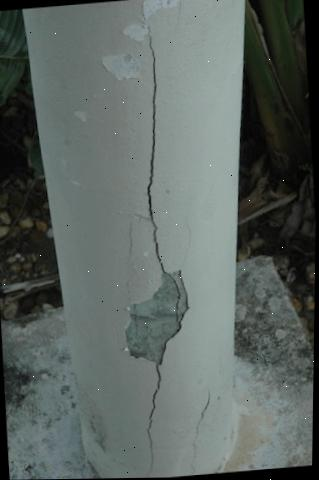spalling: (124, 270, 189, 365)
